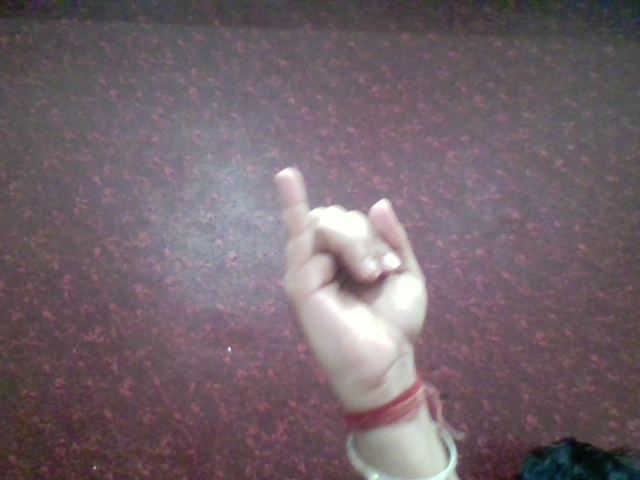j: (254, 157, 441, 381)
